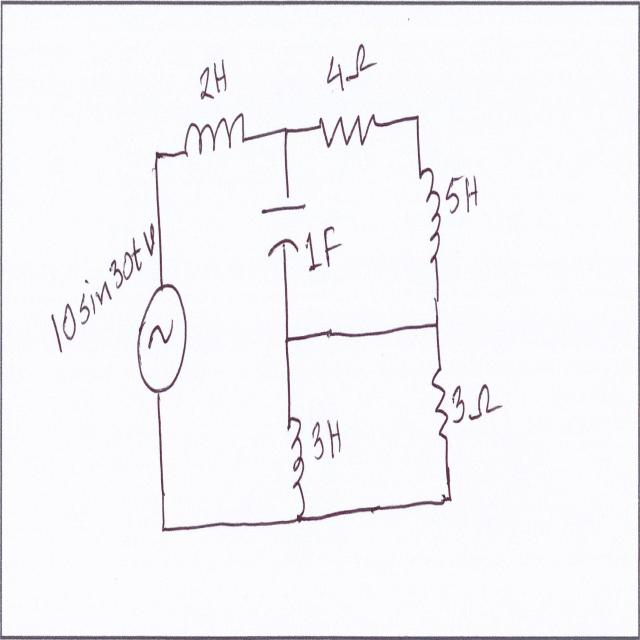ac_current: (135, 275, 189, 402)
capacitor: (259, 195, 308, 265)
inductor: (182, 108, 246, 170), (286, 411, 313, 514), (418, 162, 442, 271)
resistor: (315, 104, 381, 153), (426, 362, 453, 457)
